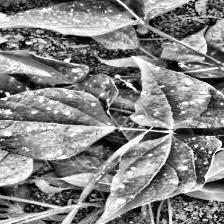Bean Rust: (97, 133, 221, 219), (0, 86, 120, 160), (128, 53, 224, 125), (0, 1, 139, 40), (0, 49, 84, 86), (85, 72, 116, 110), (145, 0, 224, 13)
